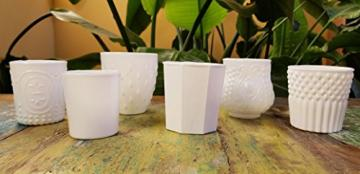glass of milk: (160, 54, 224, 137), (6, 59, 75, 128), (289, 61, 353, 135), (62, 71, 126, 141), (99, 47, 162, 117), (220, 57, 276, 124)
